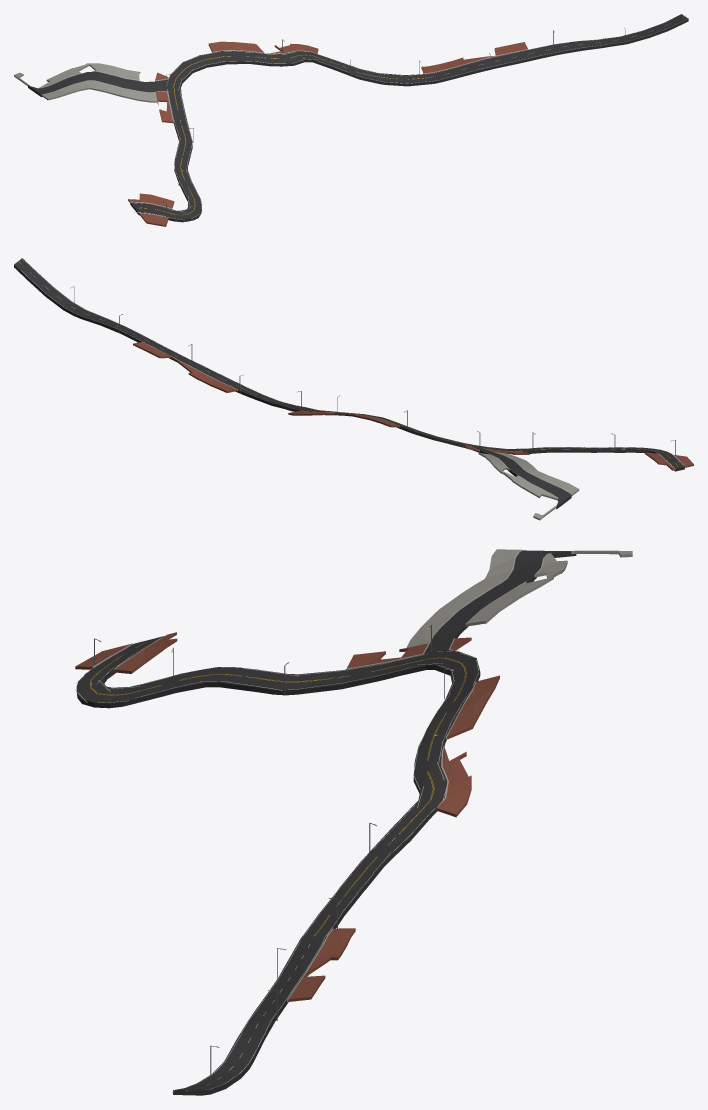
File: 17-109455-59443.0d2bffdf.glb
The picture shows the model from 3 angles, top to bottom: view 1: azimuth 30°, elevation 25°; view 2: azimuth 150°, elevation 25°; view 3: azimuth 270°, elevation 25°; orthographic projection. The views are drawn at different scales.
Bounding box in the file's own units: 298 × 36.64 × 126.
